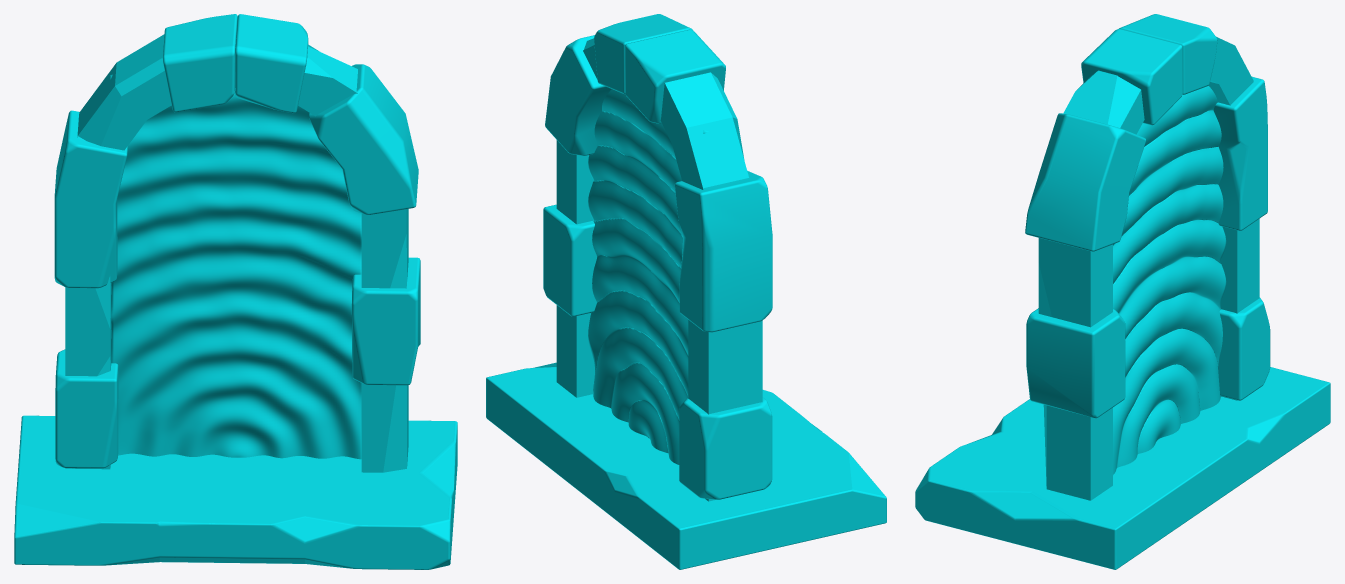
The model's file is Portal_3.fbx.
The picture shows the model from 3 angles, left to right: view 1: azimuth 30°, elevation 25°; view 2: azimuth 150°, elevation 25°; view 3: azimuth 270°, elevation 25°; orthographic projection. The views are drawn at different scales.
Visible parts, largest first — view 1: Plane; view 2: Plane; view 3: Plane.
Part boxes in pixels (x1,y1,x2,y2): Plane: (14, 14, 457, 569); Plane: (486, 14, 886, 569); Plane: (915, 14, 1330, 569).
Size of the model in its own units: 399 by 413 by 351.
